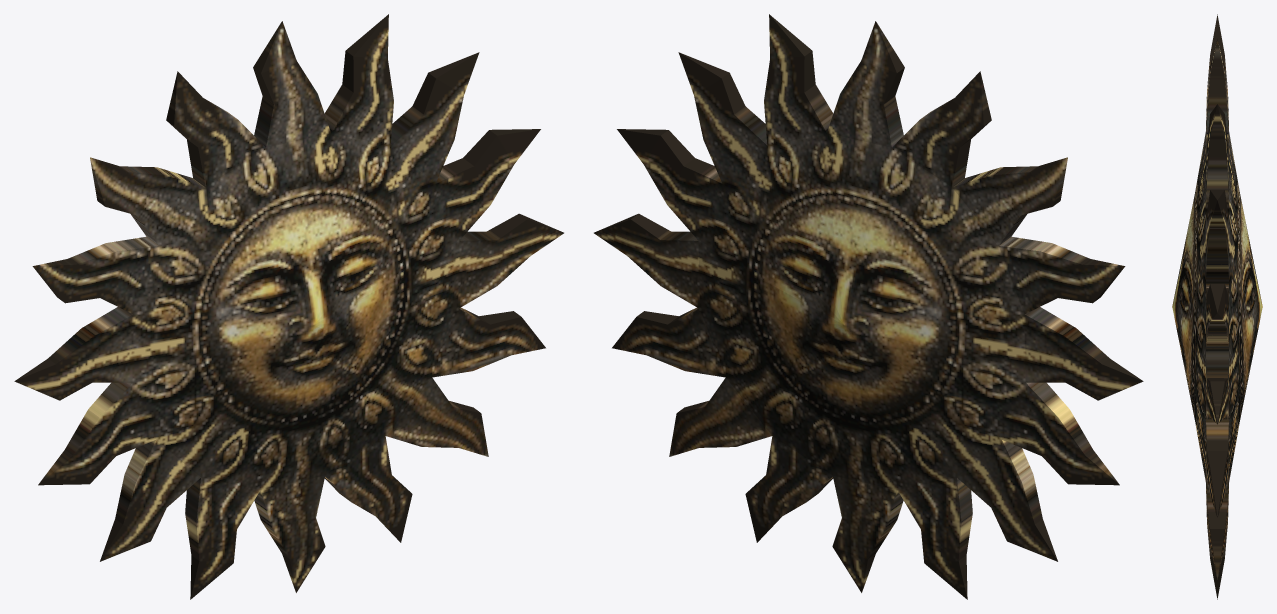
Rendered from whimsigoth_sun.obj.
3 renders of one model, left to right at view 1: azimuth 30°, elevation 25°; view 2: azimuth 150°, elevation 25°; view 3: azimuth 270°, elevation 25°, orthographic. The views are drawn at different scales.
Visible parts, largest first — view 1: star; view 2: star; view 3: star.
Boxes of the visible parts, bbox=[...] form: star: bbox=[14, 14, 563, 599]; star: bbox=[594, 14, 1143, 599]; star: bbox=[1172, 14, 1262, 599].
Size of the model in its own units: 3.55 by 3.55 by 0.5475.
1 material, 1 textured.
